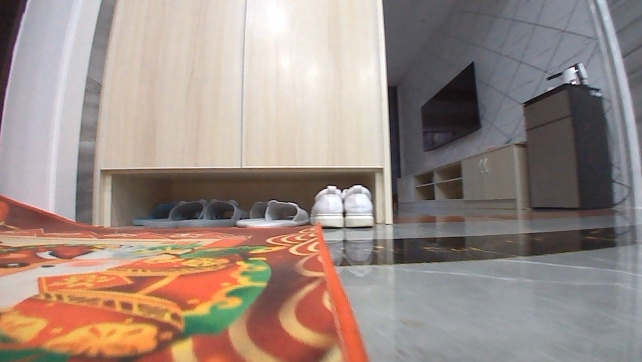TV_stand: (395, 139, 528, 212)
blanket: (0, 187, 373, 361)
refrigerator: (520, 81, 616, 214)
slipper: (147, 196, 250, 230), (235, 196, 311, 230)
wire: (607, 163, 633, 209)
